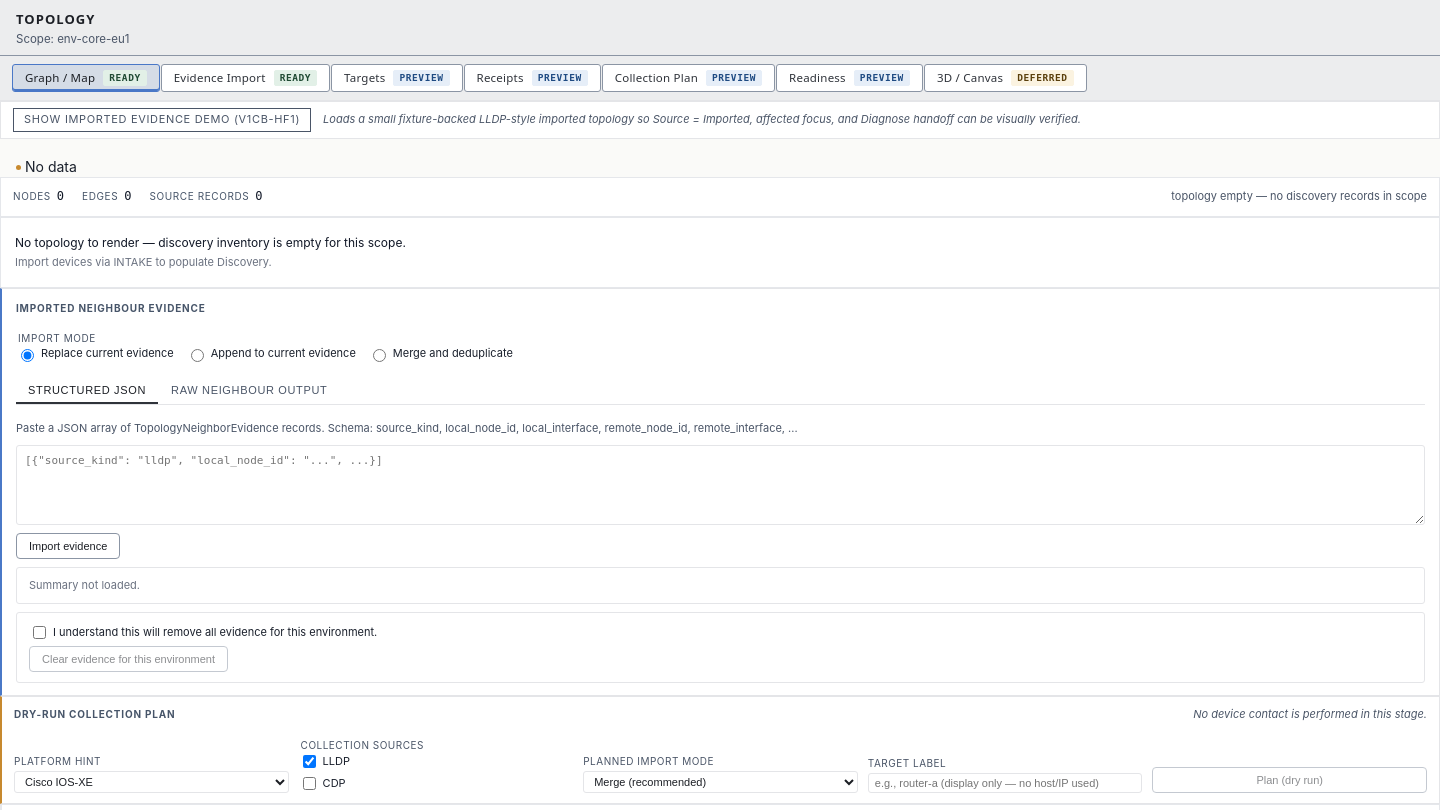
TopologyMode › TopologyMode — V1AP Raw neighbour output import (UI) › clicking raw tab reveals raw form
Click the tab with test id "tm-evidence-tab-raw".
click(249, 391)  # box 159,378 -> 340,404
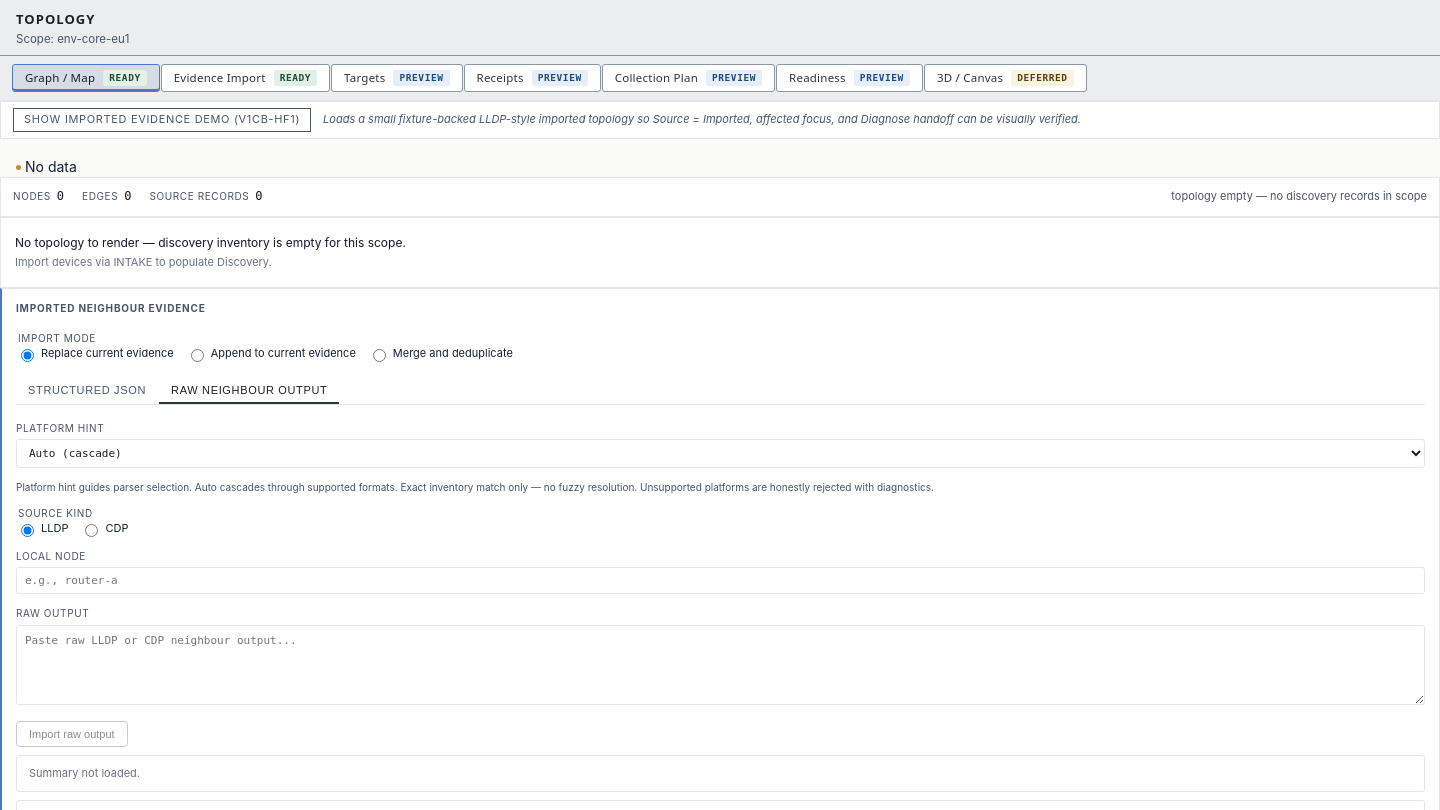
Result: the radio button with test id "tm-raw-source-kind-lldp" is shown at 21,524 -> 34,537
Result: the field with test id "tm-raw-local-node" is shown at 16,567 -> 1425,594
Result: the text box with test id "tm-raw-output-textarea" is shown at 16,625 -> 1425,705
